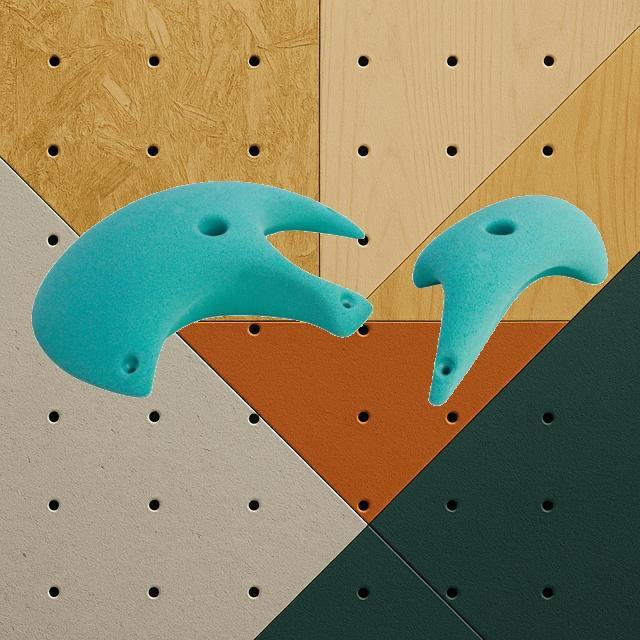Jug: (31, 178, 373, 398), (412, 193, 608, 405)
